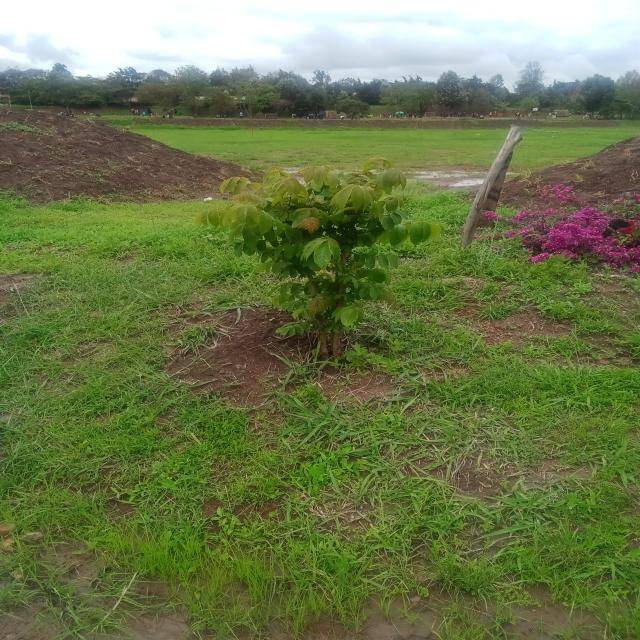Polyscias Kikuyensis: (208, 159, 451, 356)
